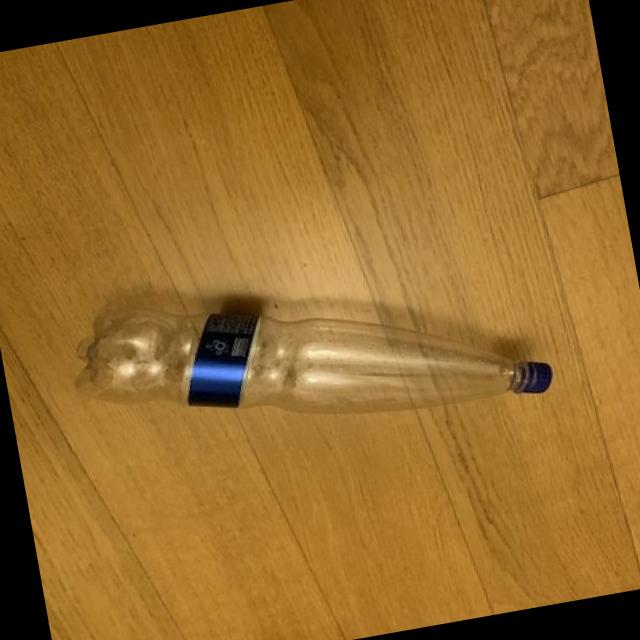plastic_bottle: (62, 236, 556, 474)
